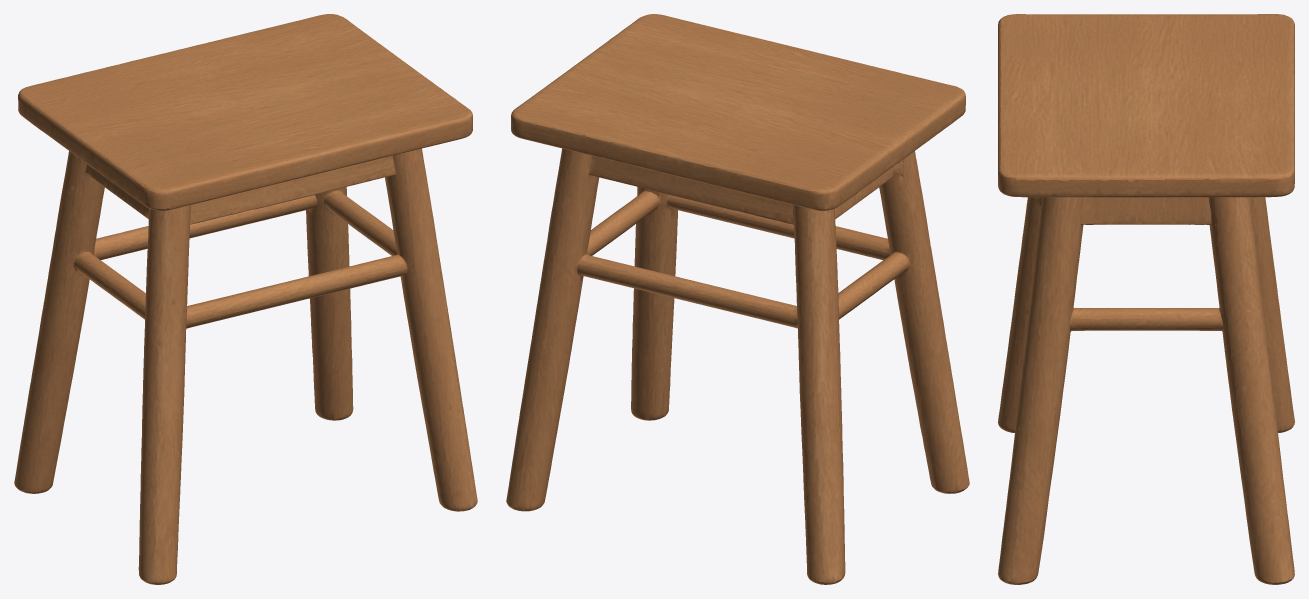
The model's file is item_b367ca7d.glb.
3 views of the same model, side by side, from view 1: azimuth 30°, elevation 25°; view 2: azimuth 150°, elevation 25°; view 3: azimuth 270°, elevation 25° (orthographic). The views are drawn at different scales.
Visible parts, largest first — view 1: world; view 2: world; view 3: world.
Boxes of the visible parts, x1=… form: world: x1=14, y1=14, x2=477, y2=584; world: x1=506, y1=14, x2=969, y2=584; world: x1=998, y1=14, x2=1294, y2=584.
Size of the model in its own units: 0.5717 by 0.65 by 0.4265.
Materials: 1 (1 with a texture image).
